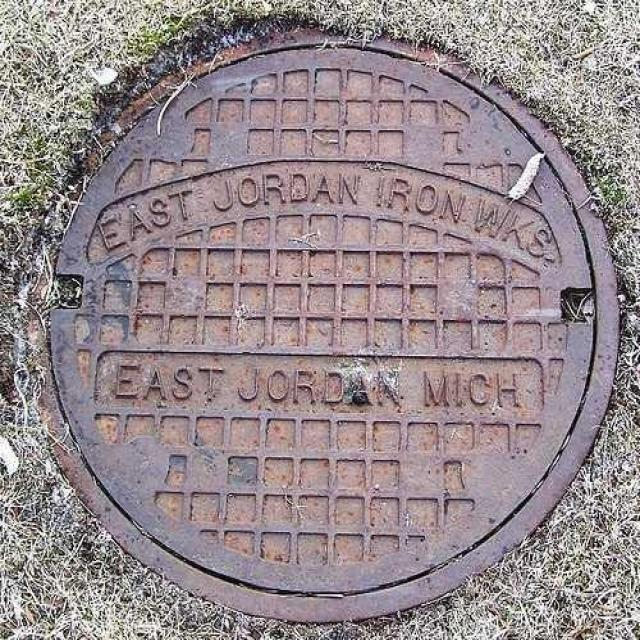manhole: (42, 31, 619, 621)
